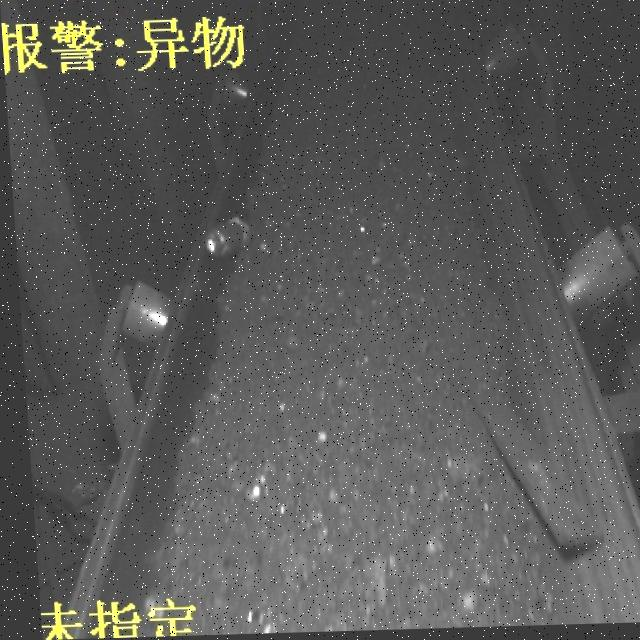Other_garbage: (202, 217, 249, 259)
bolt: (452, 367, 592, 559)
